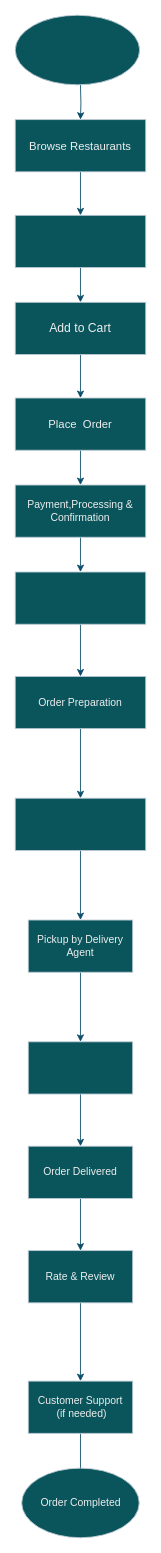
Image size: 161x1553. Some labels were removed from this diagram. The shapes that lost their labels are listed below. From the top down, each one's centre as x and y in pixels, then its label:
At [77,49]: "User Registration or Login".
At [80,241]: "View Menu & Items".
At [80,597]: "Restaurant Recieves Order".
At [80,823]: "Assign Delivery Partner".
At [80,1067]: "Live Order Tracking".
